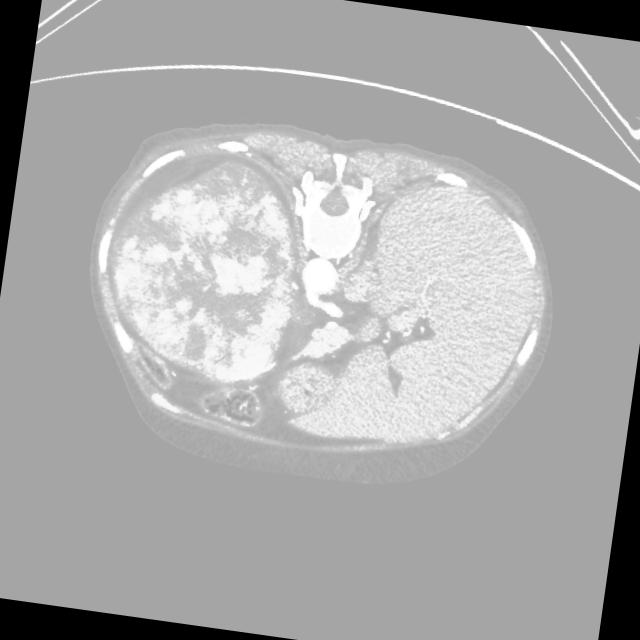TUMOR: (71, 147, 330, 396)
